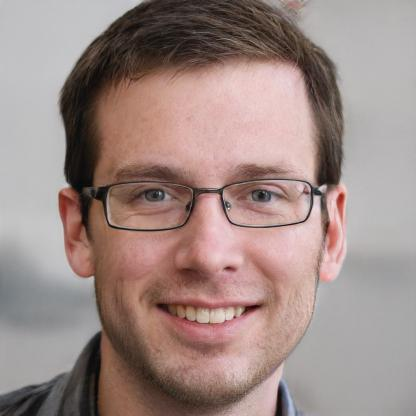glasses: (94, 175, 314, 234)
